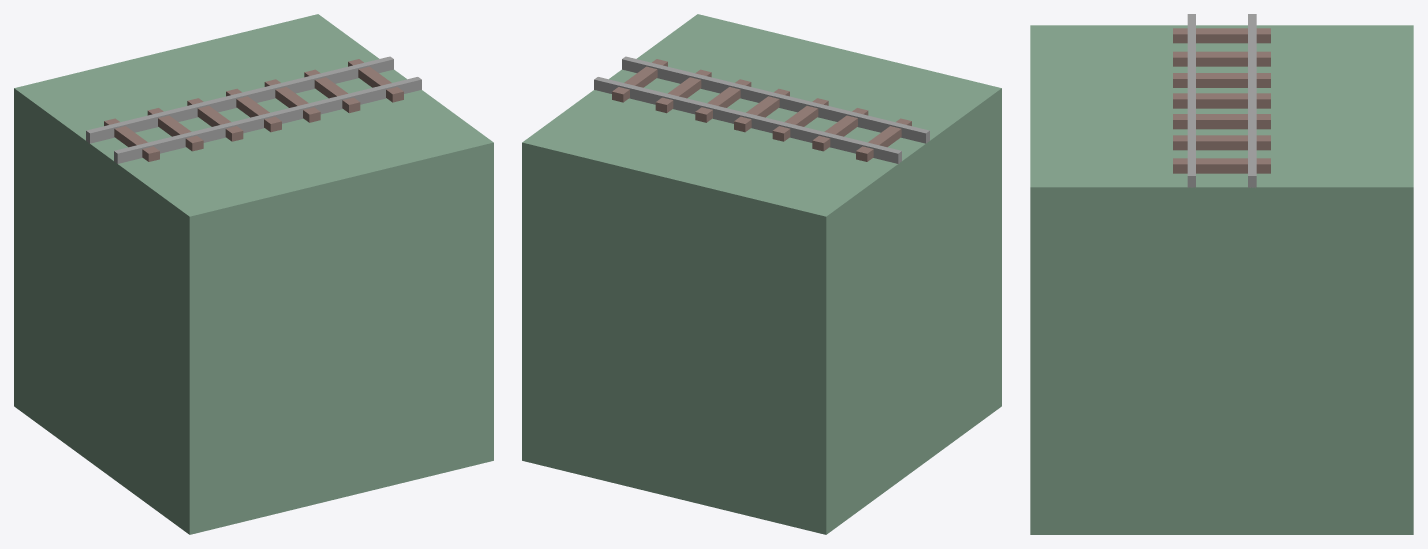
Rendered from rechtoor dwars.fbx.
3 renders of one model, left to right at view 1: azimuth 30°, elevation 25°; view 2: azimuth 150°, elevation 25°; view 3: azimuth 270°, elevation 25°, orthographic. The views are drawn at different scales.
Visible parts, largest first — view 1: pCube10; view 2: pCube10; view 3: pCube10.
Part boxes in pixels (x1,y1,x2,y2): pCube10: [14, 14, 493, 534]; pCube10: [522, 14, 1001, 534]; pCube10: [1030, 14, 1413, 534].
Bounding box in the file's own units: 1 × 1.03 × 1.
